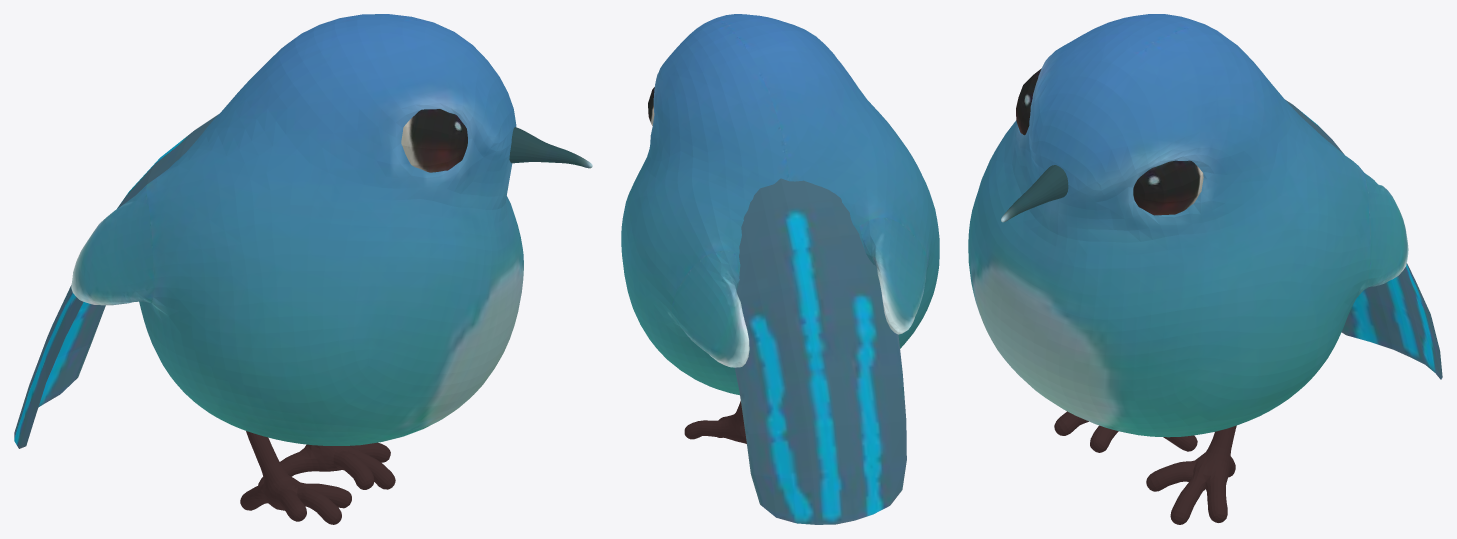
Rendered from bluebird.glb.
The picture shows the model from 3 angles, left to right: view 1: azimuth 30°, elevation 25°; view 2: azimuth 150°, elevation 25°; view 3: azimuth 270°, elevation 25°; orthographic projection. The views are drawn at different scales.
Parts seen in each view (by area): view 1: Object_4, Object_3; view 2: Object_4, Object_3; view 3: Object_4, Object_3.
Part boxes in pixels (x1,y1,x2,y2): Object_4: (14, 14, 592, 448); Object_3: (240, 431, 395, 524); Object_4: (621, 14, 939, 524); Object_3: (684, 401, 746, 443); Object_4: (968, 14, 1442, 437); Object_3: (1054, 411, 1236, 524).
Size of the model in its own units: 1.3 by 1.47 by 1.3.
Materials: 2 (1 with a texture image).
